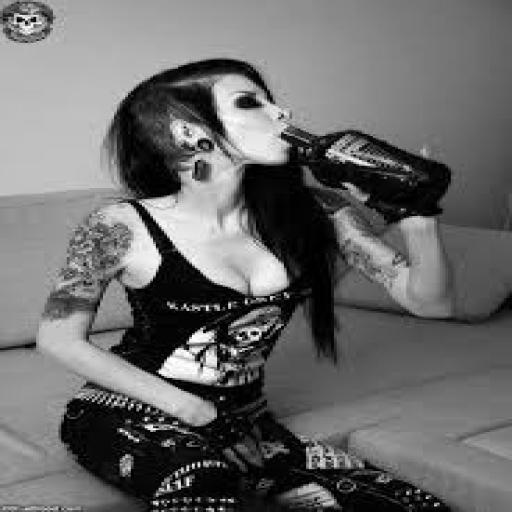drinking: (275, 121, 451, 222)
